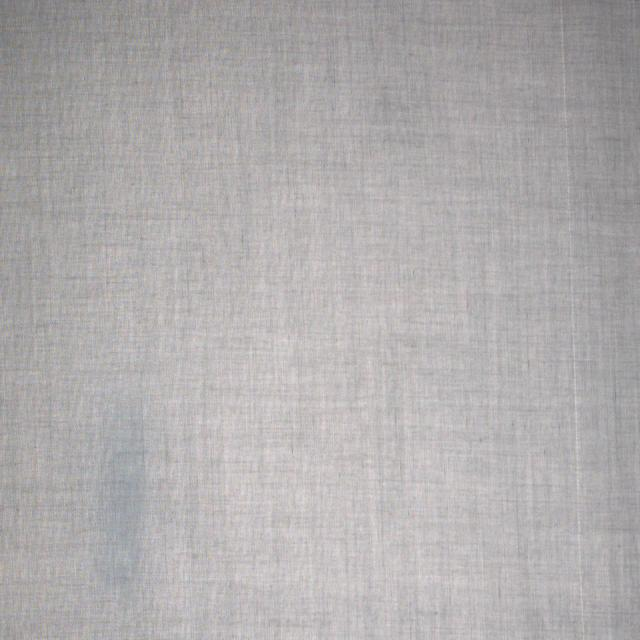dirty: (110, 398, 143, 586)
